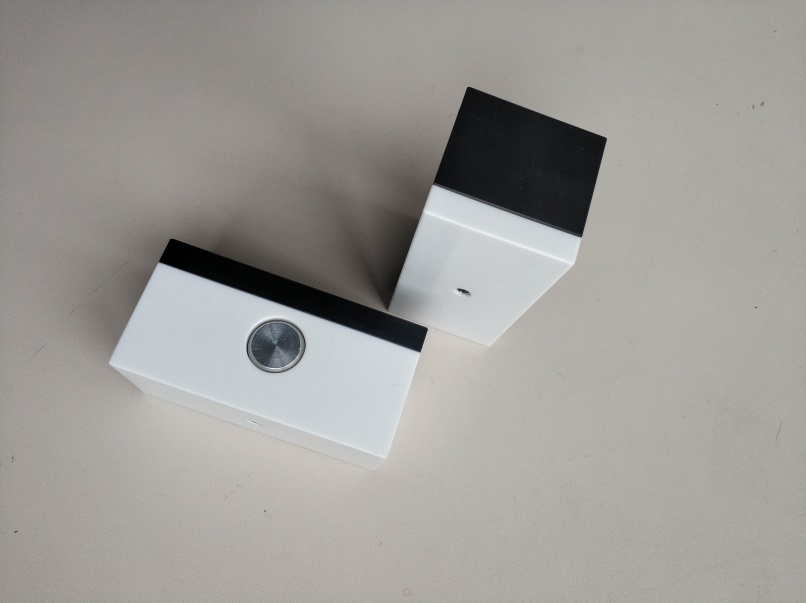black+white+silver: (103, 236, 431, 473)
